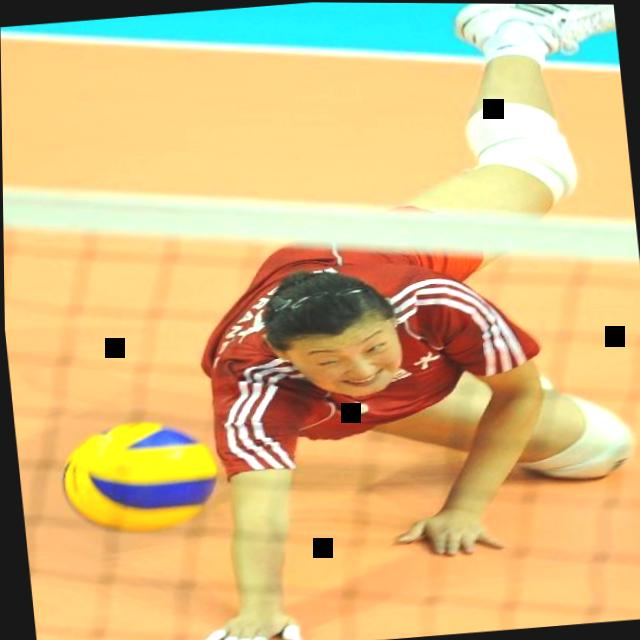Fall-Detected: (105, 1, 640, 640)
